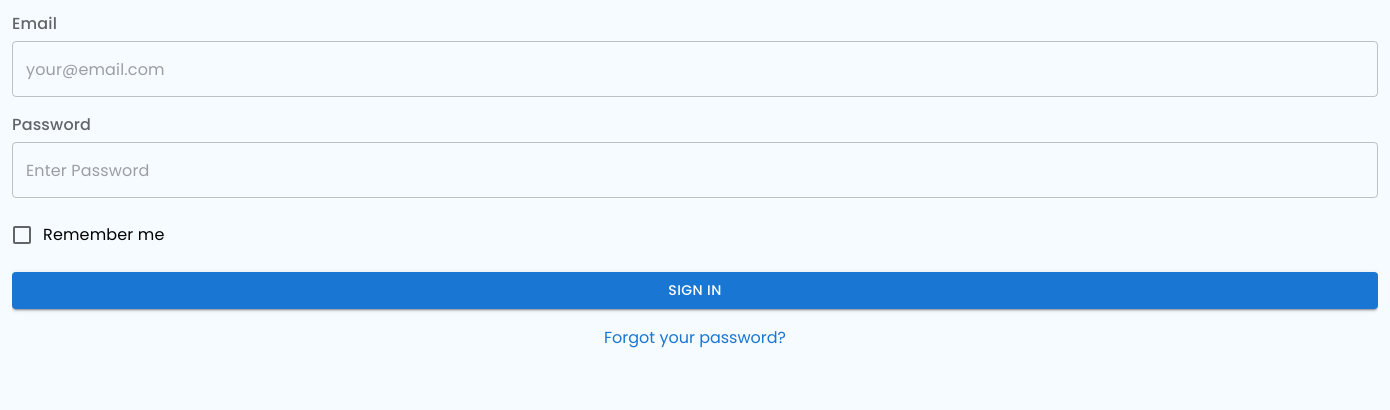
Test: LoginForm › shows validation errors for invalid email
In the field labelled "Email": (695, 69) [12,41,1378,97], type "invalid-email"
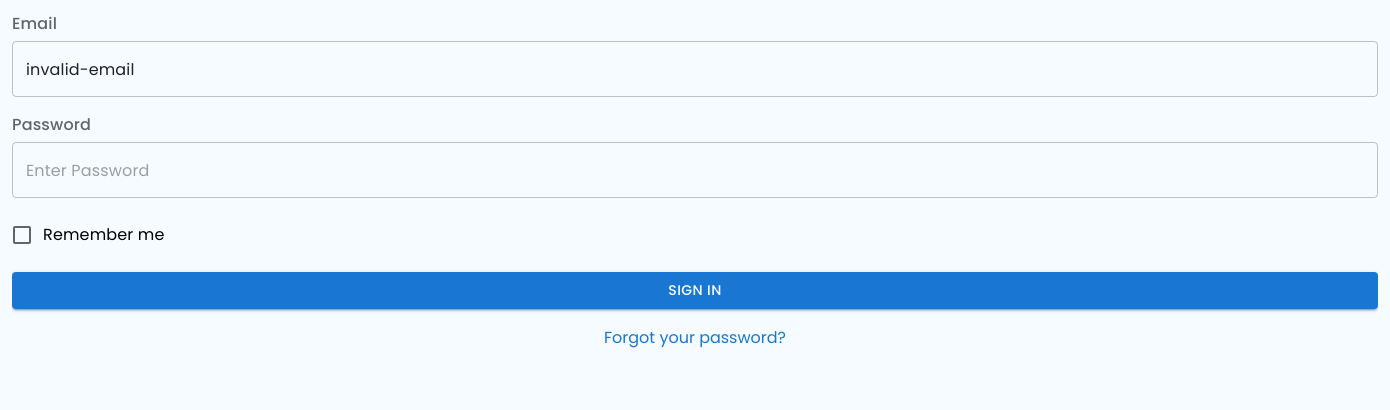
Click the button "Sign in": (695, 290) [12,272,1378,308]
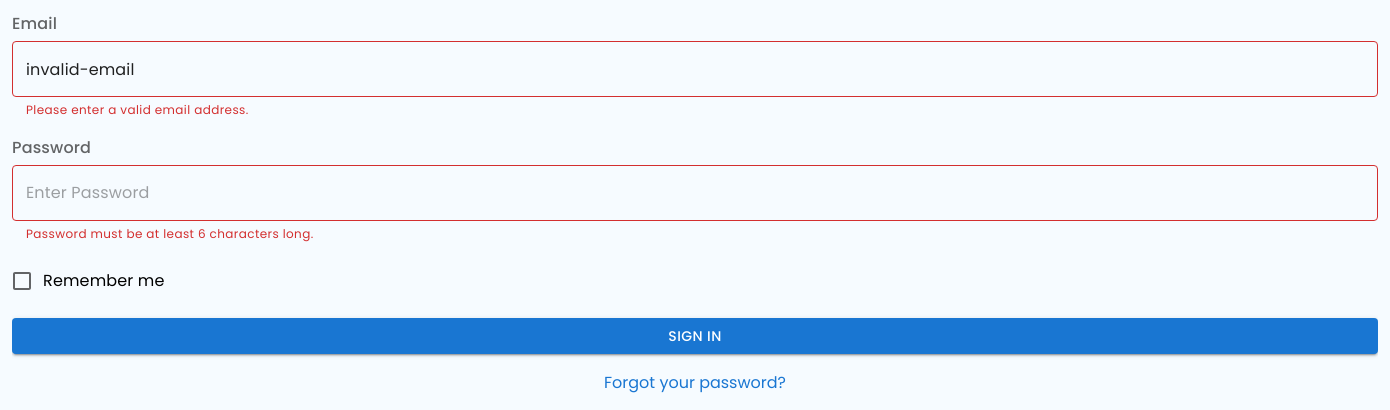
Expected: the text "Please enter a valid email address." is shown, [26,101,249,118]
